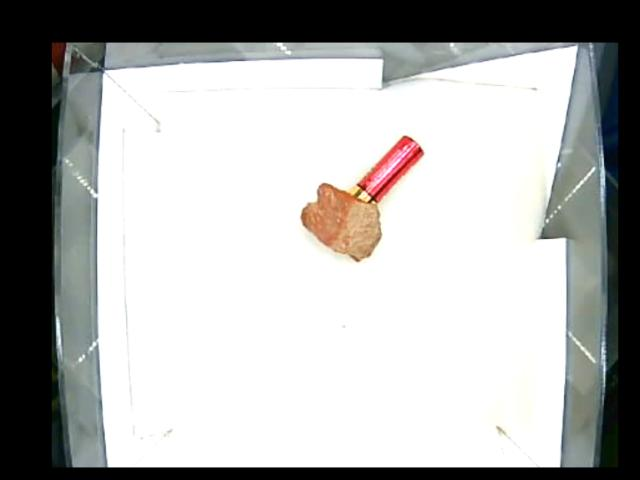Battery: (350, 136, 426, 203)
Brisk: (304, 182, 383, 260)
